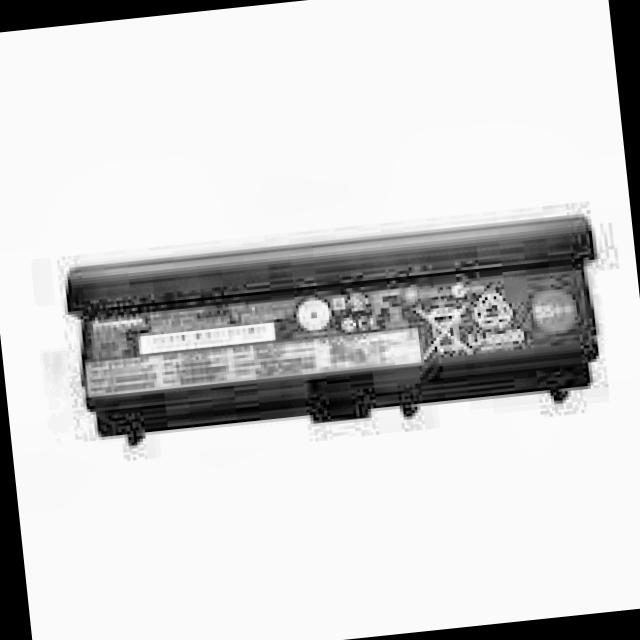Battery: (59, 200, 616, 465)
